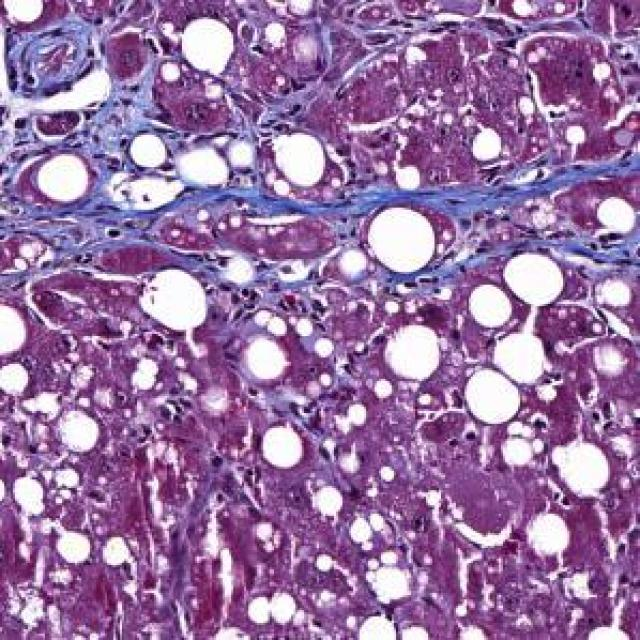fibrosis: (55, 115, 268, 268)
